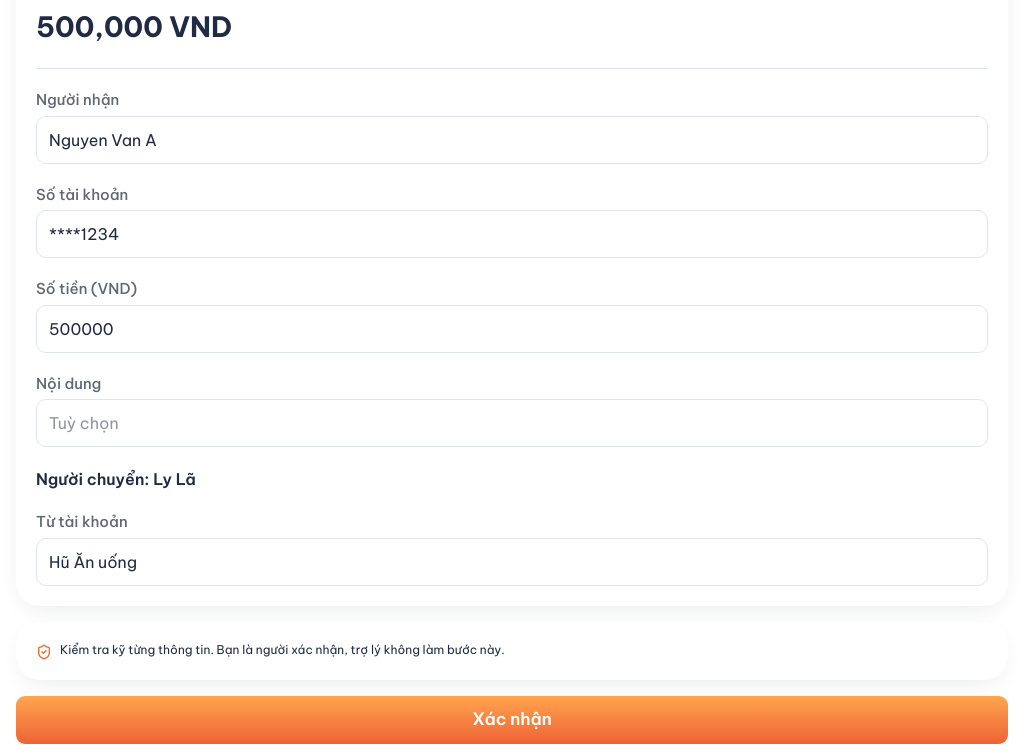
Scenario: TransferConfirm — always create + categorize › double-submit creates only one txn (F#3)
(page scrolled)
What coordinates should you click on to do the following:
click the button with aria-label "Xác nhận chuyển tiền"
I would click on:
 (512, 720)
Its box is [16,696,1008,744].
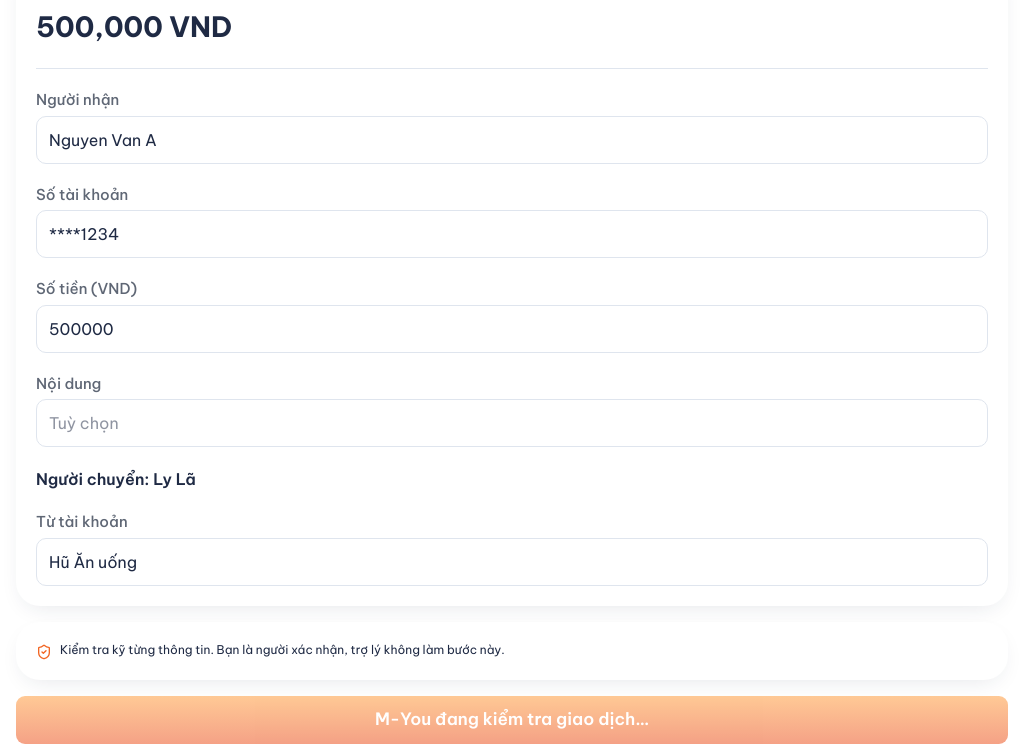
What coordinates should you click on to do the following:
click the button with aria-label "Xác nhận chuyển tiền"
I would click on:
 (512, 720)
Its box is [16,696,1008,744].
(page scrolled)
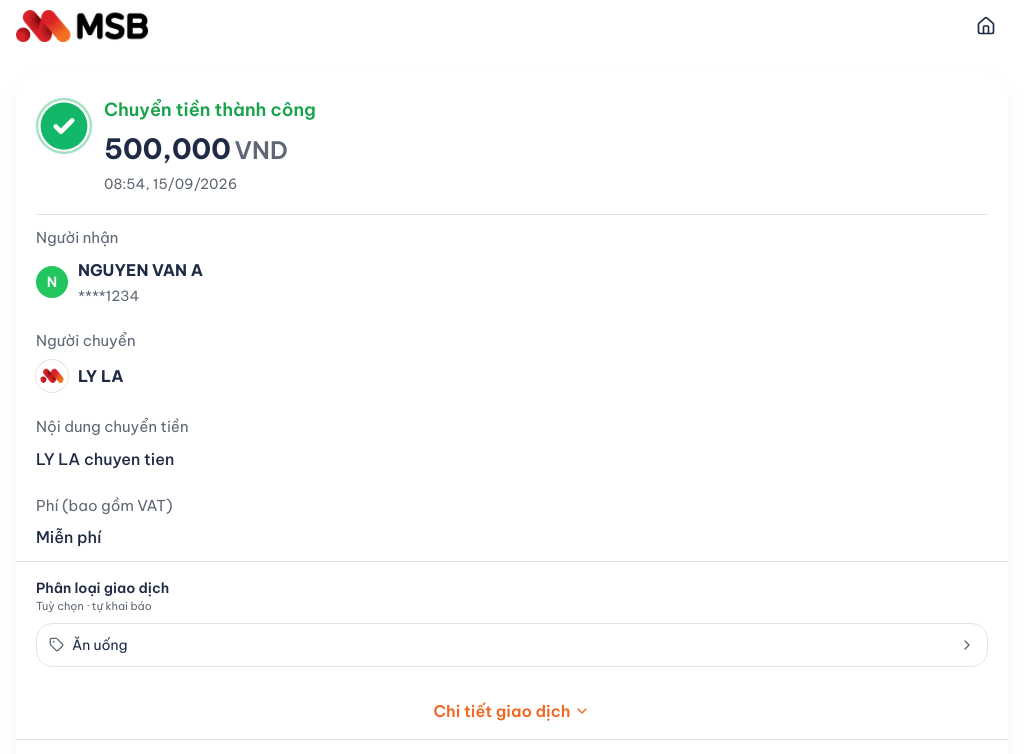
Now the text "Chuyển tiền thành công" is shown, box [104,96,316,124]
